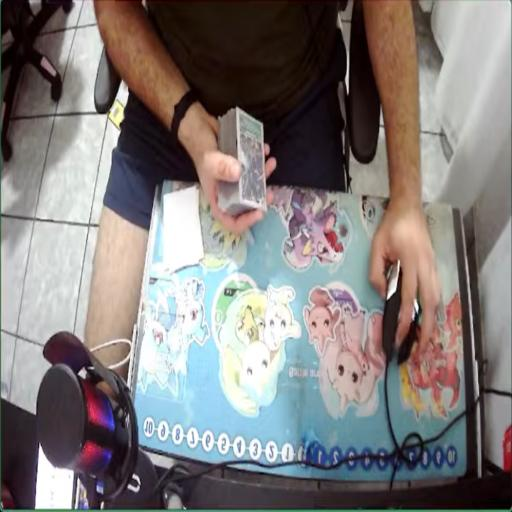card: (237, 113, 271, 207)
